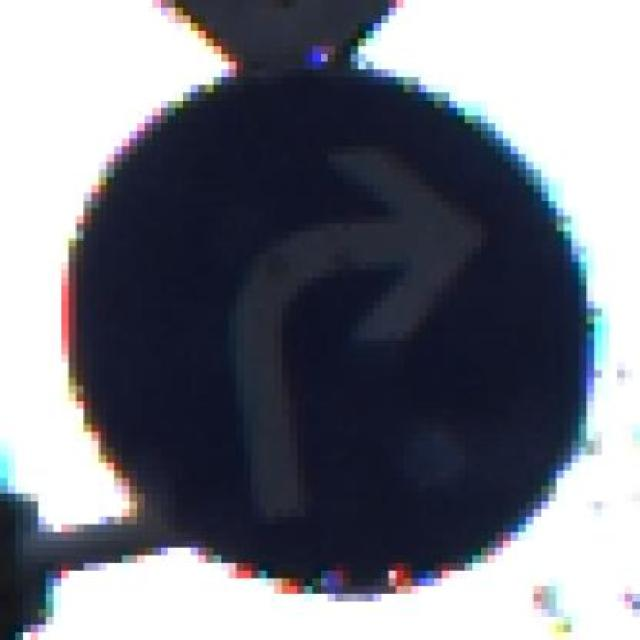Turn right ahead: (61, 77, 633, 609)
